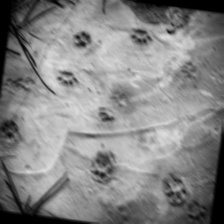cat: (87, 151, 121, 185), (69, 24, 96, 51), (55, 69, 83, 92)
